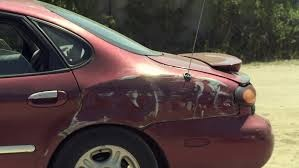Scratch: (72, 77, 225, 130)
